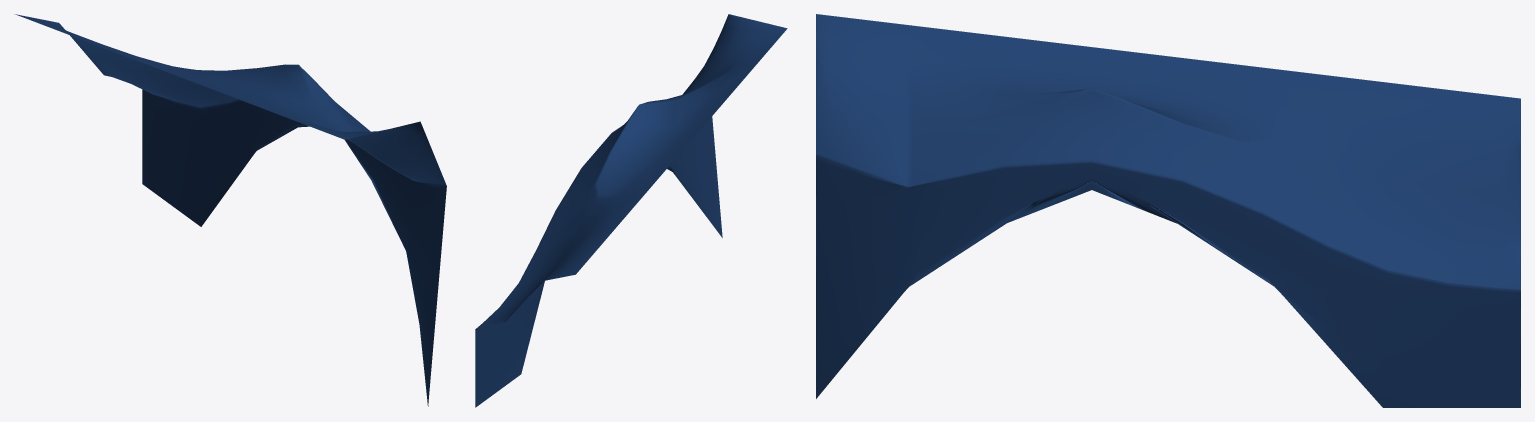
File: front_left_fender.glb
3 views of the same model, side by side, from view 1: azimuth 30°, elevation 25°; view 2: azimuth 150°, elevation 25°; view 3: azimuth 270°, elevation 25° (orthographic). The views are drawn at different scales.
Visible parts, largest first — view 1: GEO_Fender_Front_Left; view 2: GEO_Fender_Front_Left; view 3: GEO_Fender_Front_Left.
Part boxes in pixels (bbox=[...]): GEO_Fender_Front_Left: bbox=[14, 14, 446, 406]; GEO_Fender_Front_Left: bbox=[475, 14, 787, 407]; GEO_Fender_Front_Left: bbox=[816, 14, 1520, 407].
Size of the model in its own units: 0.365 by 0.7299 by 1.38.
